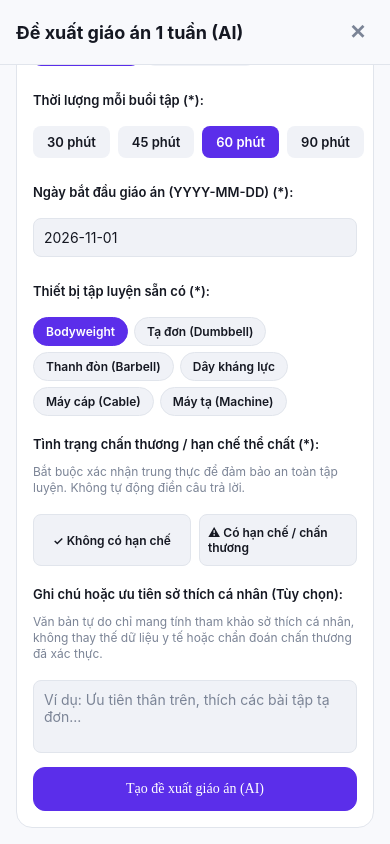
Test: AiWorkoutProposalModal › displays conflict error when active plan already exists
(page scrolled)
Click the button with test id "generate-ai-proposal-button": x=195, y=789 left=33, top=767, right=357, bottom=811
(page scrolled)
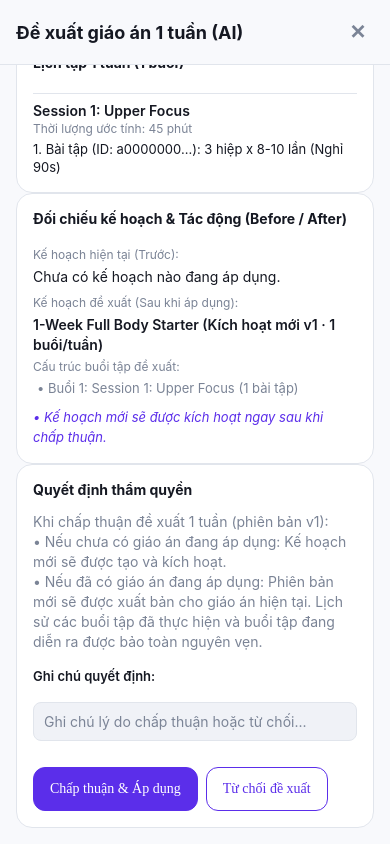
Click the button with test id "accept-ai-proposal-button": x=115, y=789 left=33, top=767, right=198, bottom=811
(page scrolled)
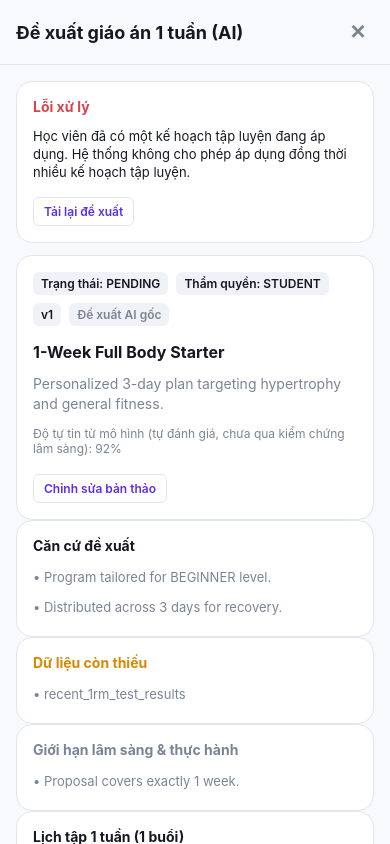
Now the element with test id "ai-proposal-error-banner" is shown, box left=16, top=81, right=374, bottom=243
